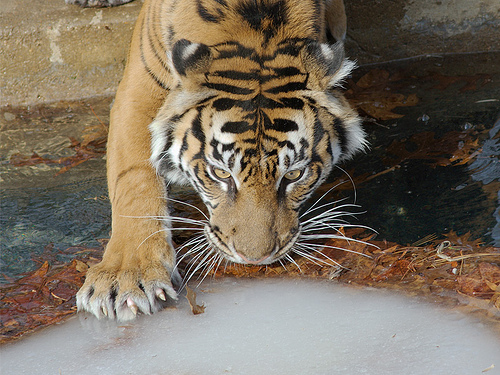Tigre: (116, 1, 372, 308)
